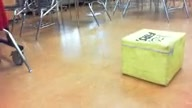cube: (120, 28, 187, 88)
